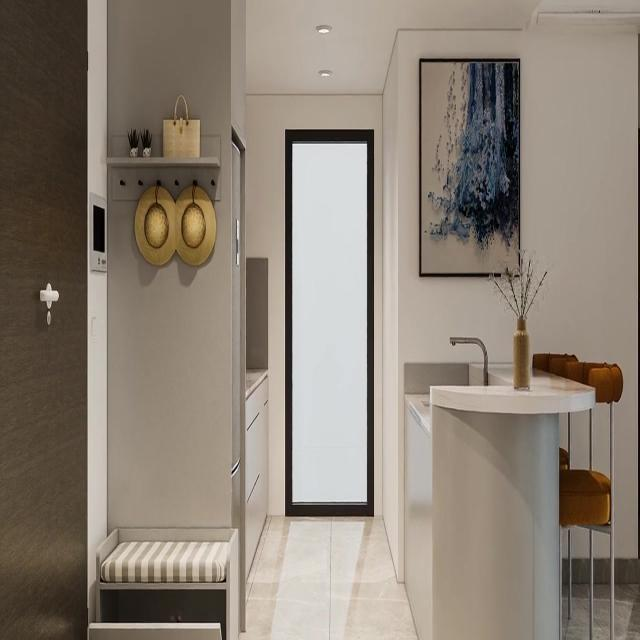door: (284, 128, 374, 516)
obstacle: (428, 364, 596, 638)
